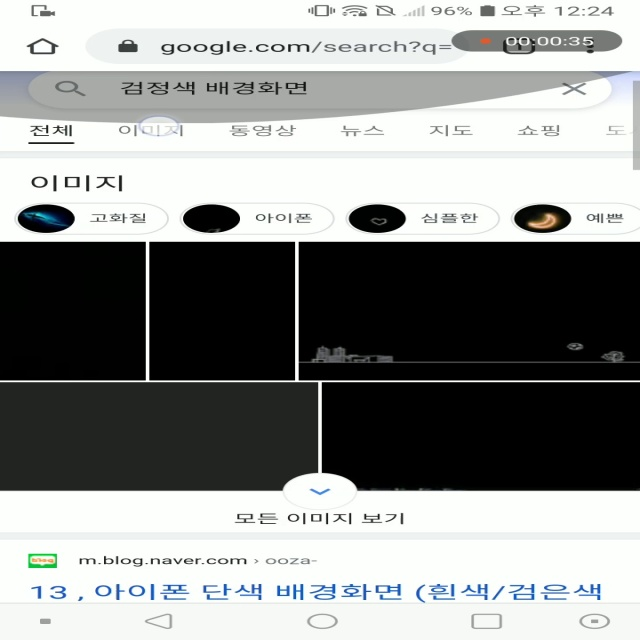Cursor: (138, 116, 183, 138)
